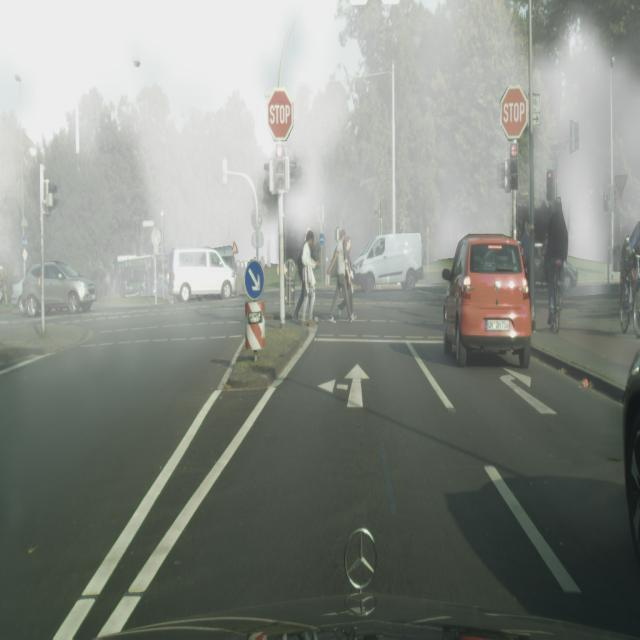car: (619, 263, 639, 334), (548, 265, 563, 333)
person: (543, 201, 568, 324), (292, 227, 320, 326), (327, 228, 355, 322)
train: (352, 232, 424, 292)
truck: (442, 234, 532, 369), (13, 261, 96, 316), (352, 232, 424, 292), (622, 346, 640, 569), (170, 247, 237, 302)
